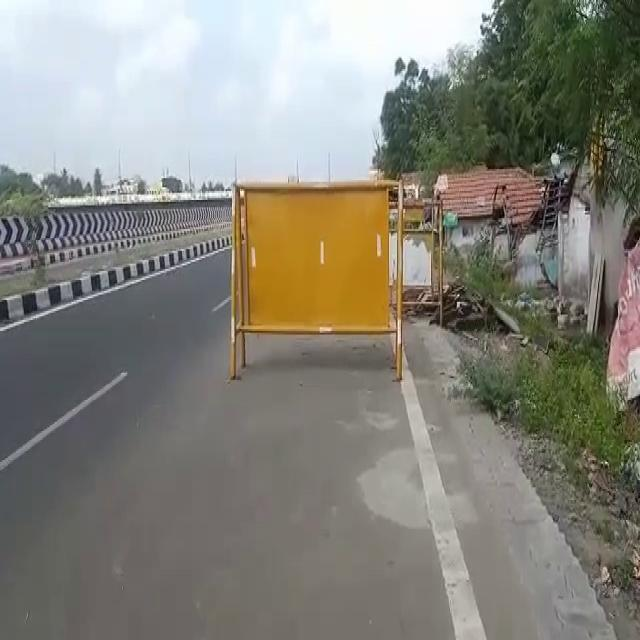fallen_object: (217, 162, 422, 394)
